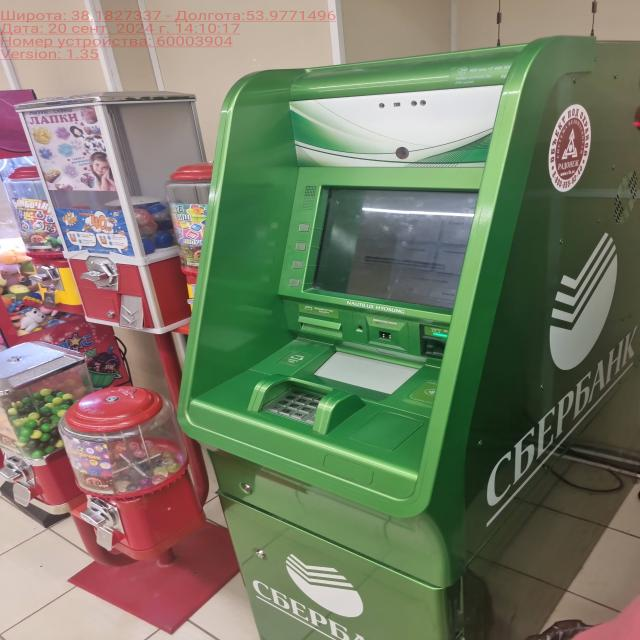bank: (174, 35, 640, 640)
